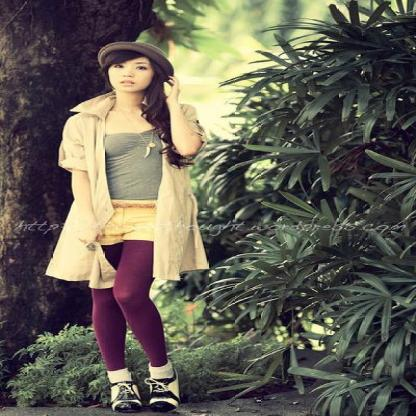hat: (98, 30, 167, 68)
jacket: (45, 86, 209, 290)
pants: (90, 240, 170, 370)
shirt: (103, 130, 167, 200)
shoe: (107, 362, 179, 415)
